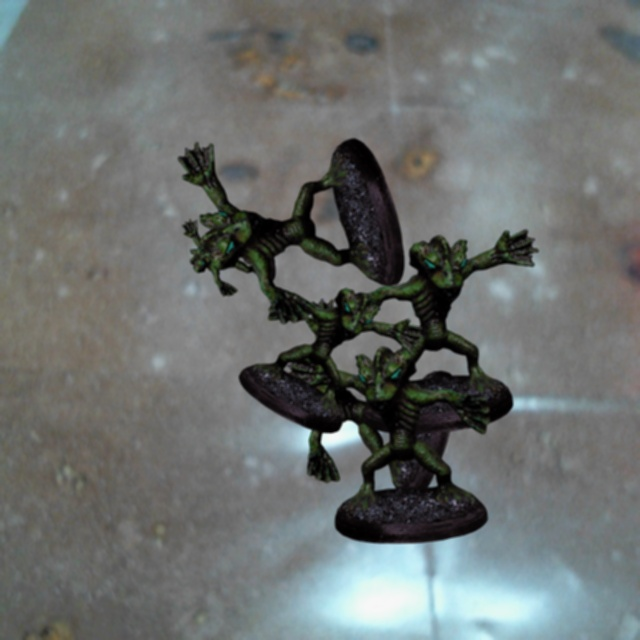pieza_juego: (178, 138, 404, 323), (285, 346, 490, 543), (344, 229, 538, 433), (284, 298, 456, 500), (239, 288, 423, 432), (182, 219, 275, 296)
